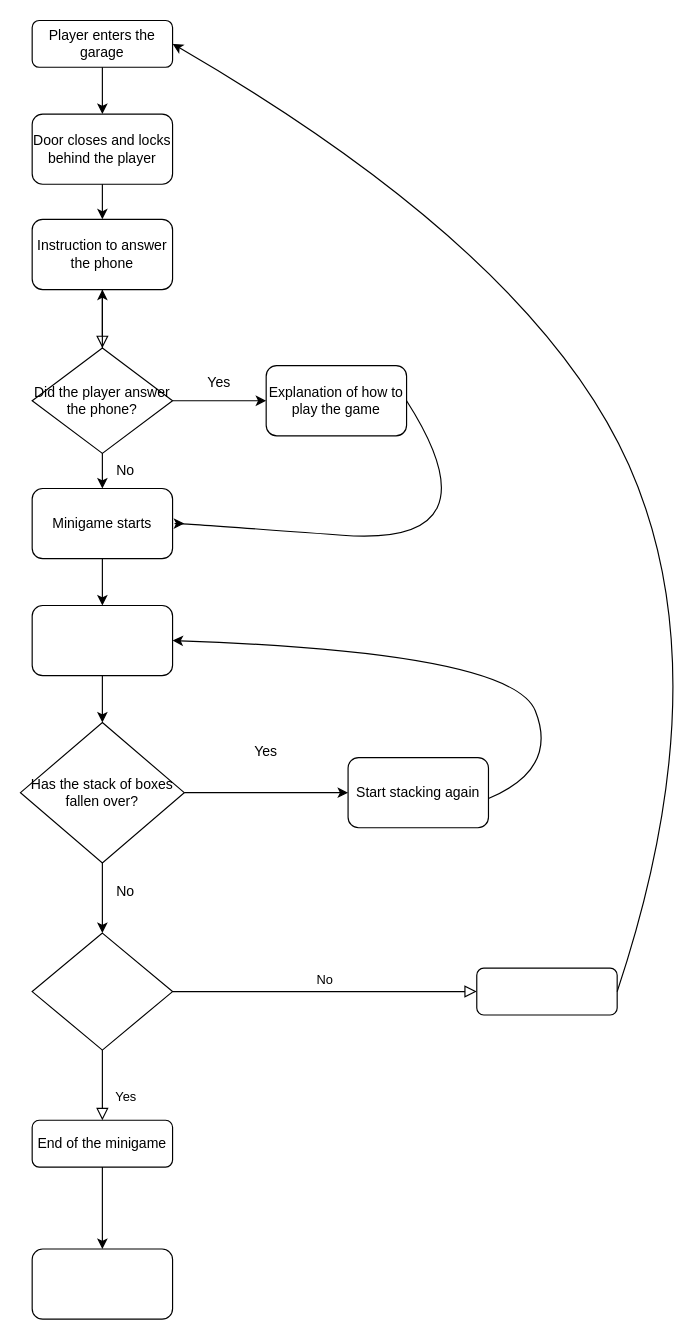
This 694x1340 diagram has some shape labels left out. Here are the shapes that lost their labels. From the top down, the box of each, then its label:
(31, 604, 173, 676): The player picks up the boxes and puts them on the scales
(31, 932, 173, 1050): Boxes stacked within 60 seconds?
(476, 967, 617, 1015): Jump-scare, start over
(31, 1248, 173, 1319): The player receives the key to unlock the door and continue with the game
